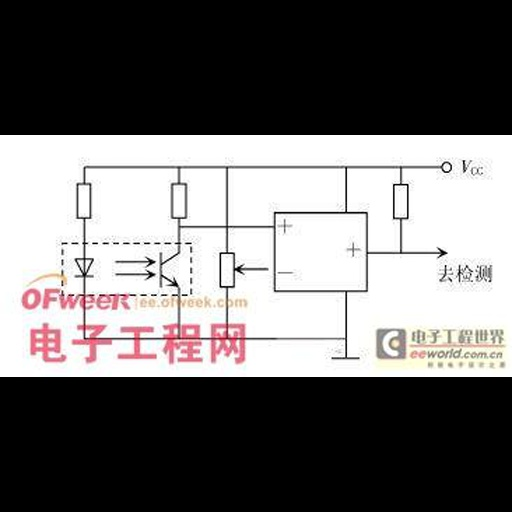firstresistance: (389, 181, 415, 223), (168, 180, 193, 221), (72, 178, 94, 222)
seconddiode: (71, 253, 99, 281)
